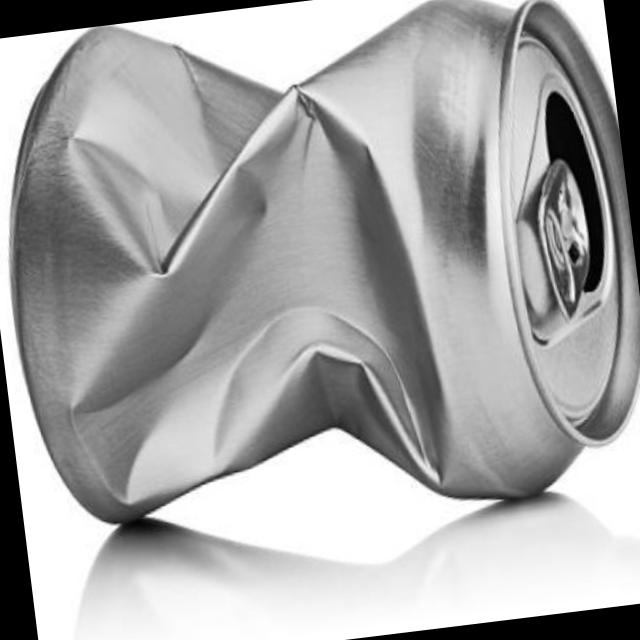metal: (8, 0, 640, 518)
